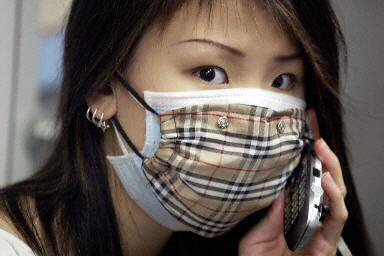OK: (122, 39, 306, 223)
